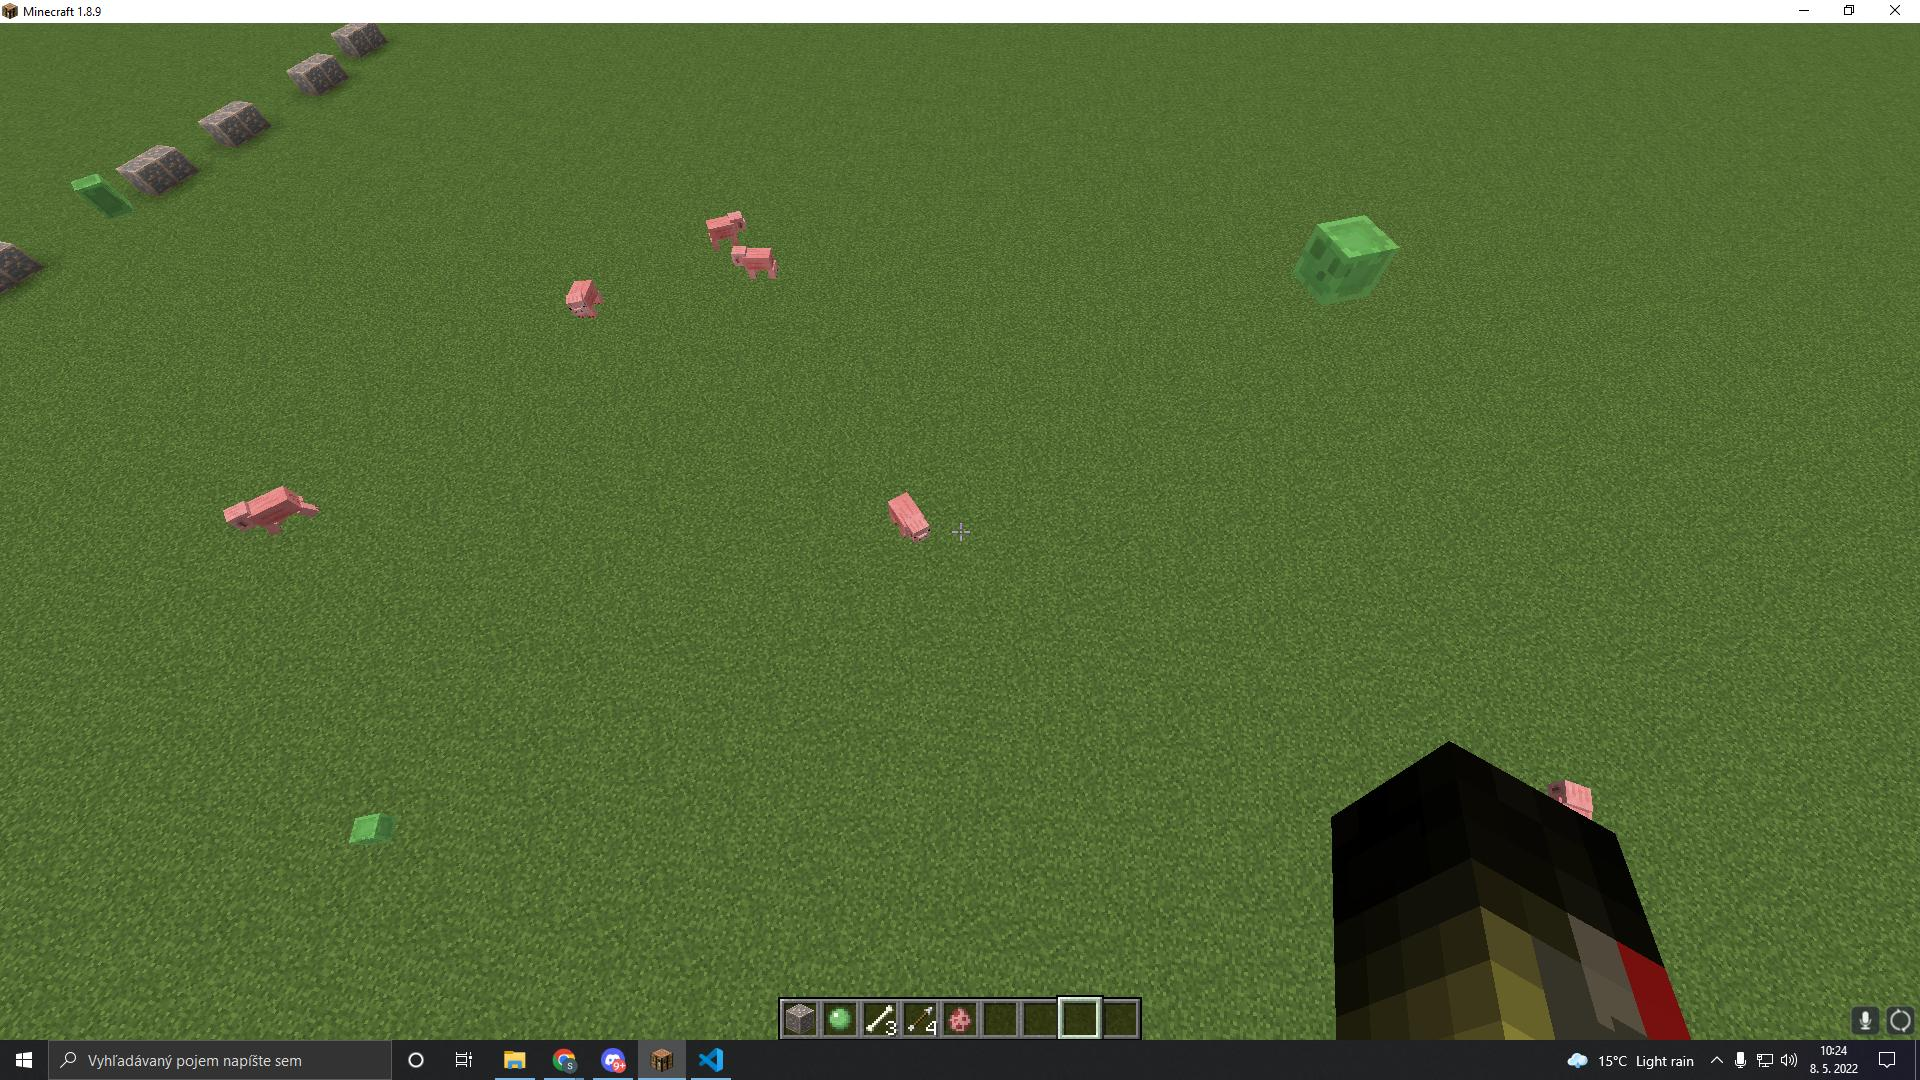pig: (219, 479, 324, 554), (1552, 760, 1621, 825), (880, 487, 935, 550), (555, 270, 611, 324), (731, 244, 794, 285), (694, 208, 752, 245)
